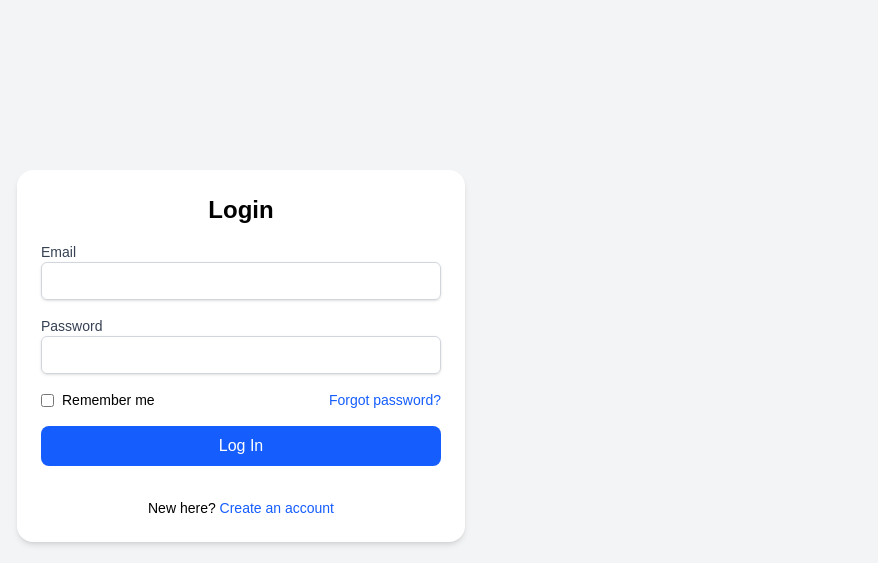
Test: Login Page - API Integration › should show generic error toast when login request fails
The image size is (878, 563).
In the field labelled "Email": (241, 281) top-left (41, 262), bottom-right (441, 300), type "test@example.com"
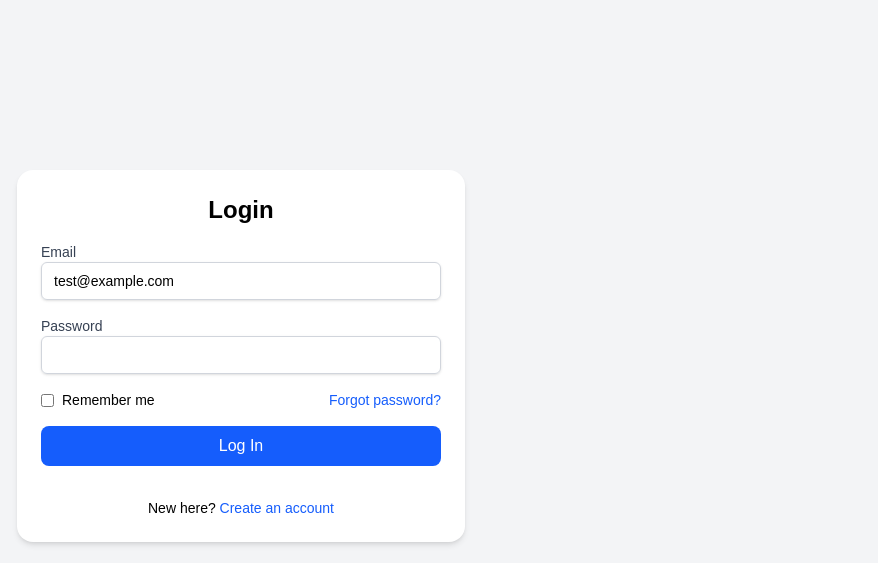
In the password field labelled "Password": (241, 355) top-left (41, 336), bottom-right (441, 374), type "password123"
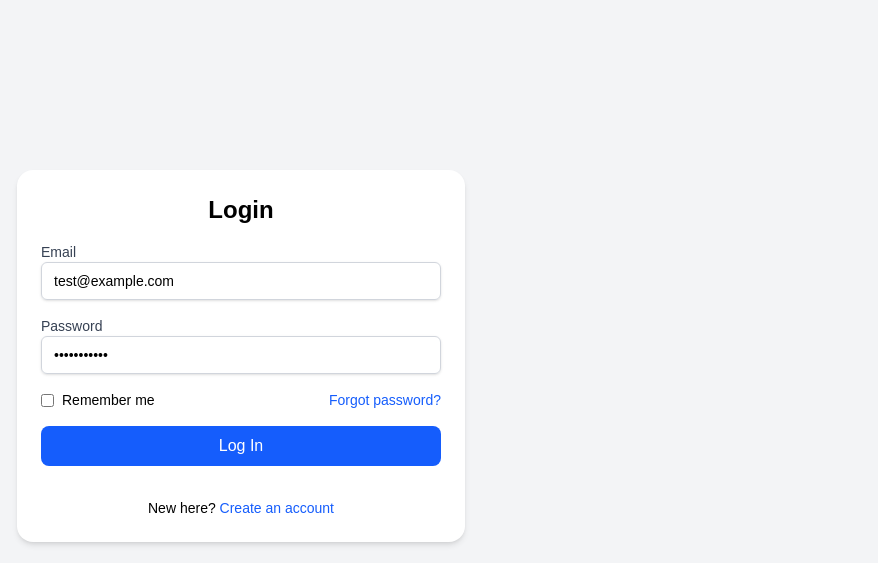
Click the button "Log In": click(241, 446) top-left (41, 426), bottom-right (441, 466)
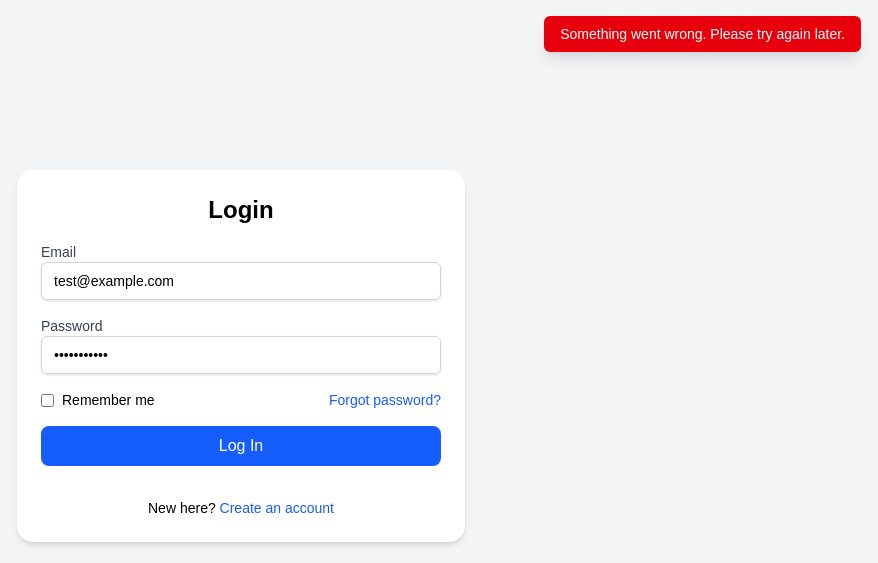
Expected: the text "Something went wrong. Please try again later." is shown, top-left (544, 16), bottom-right (861, 52)
